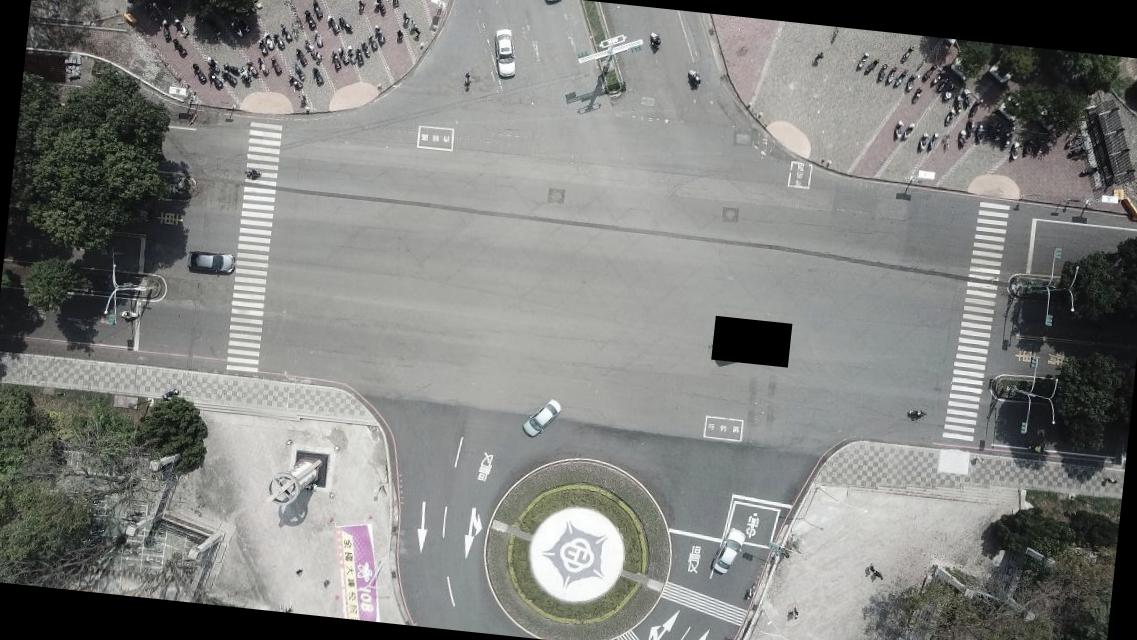vehicle: (522, 396, 562, 440), (714, 526, 748, 574), (491, 28, 519, 78), (188, 249, 236, 274)
